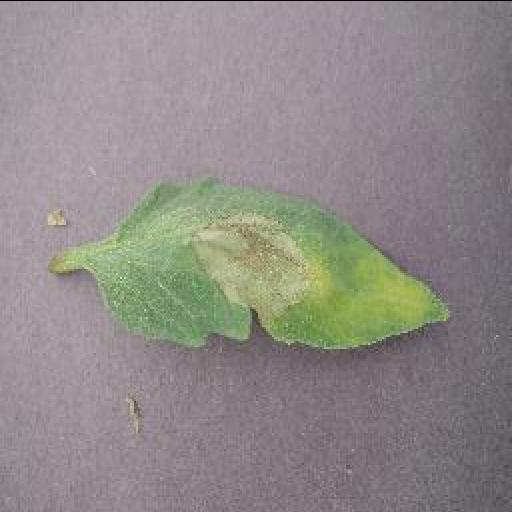disease_tomato: (89, 170, 459, 350)
